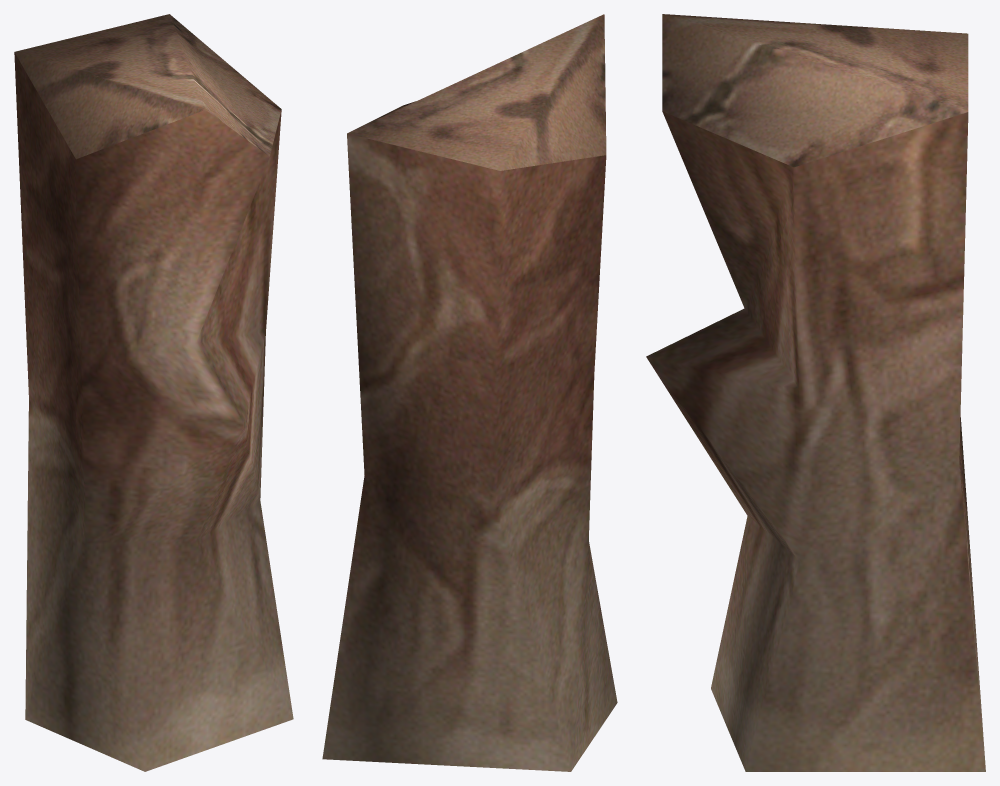
File: archi_0075_03.FBX
3 views of the same model, side by side, from view 1: azimuth 30°, elevation 25°; view 2: azimuth 150°, elevation 25°; view 3: azimuth 270°, elevation 25° (orthographic). The views are drawn at different scales.
Parts seen in each view (by area): view 1: archi_0075_03; view 2: archi_0075_03; view 3: archi_0075_03.
Part boxes in pixels (x1,y1,x2,y2): archi_0075_03: (14,14,293,771); archi_0075_03: (322,14,617,771); archi_0075_03: (646,14,985,771).
Size of the model in its own units: 12.94 by 38.88 by 17.28.
